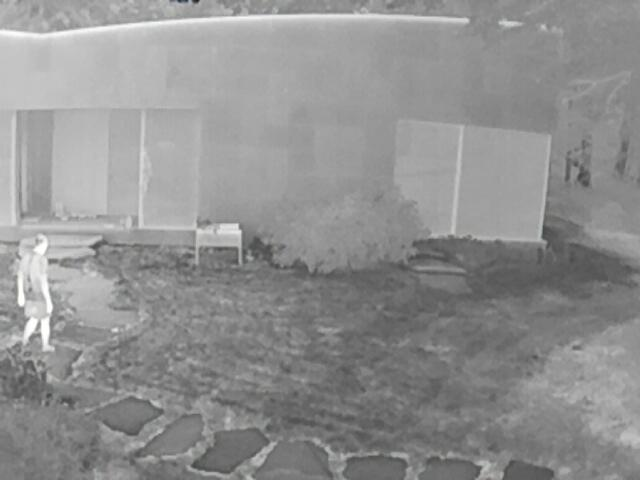person: (17, 234, 56, 354)
